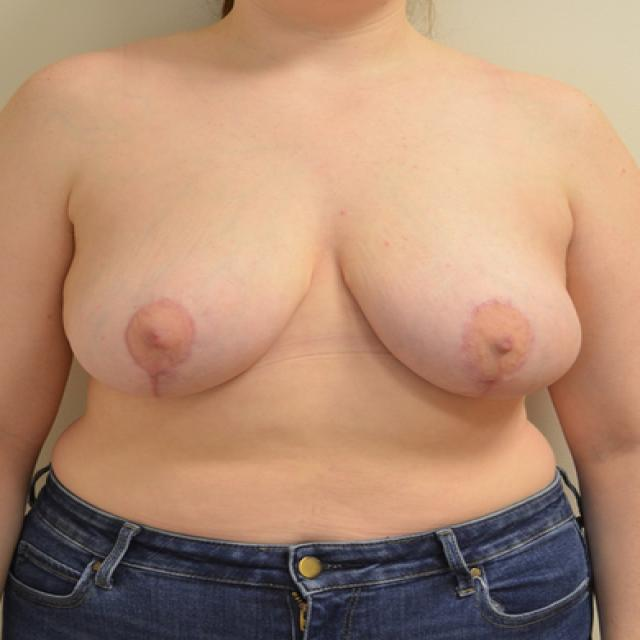Seno herido: (54, 181, 323, 415), (330, 191, 590, 414)
